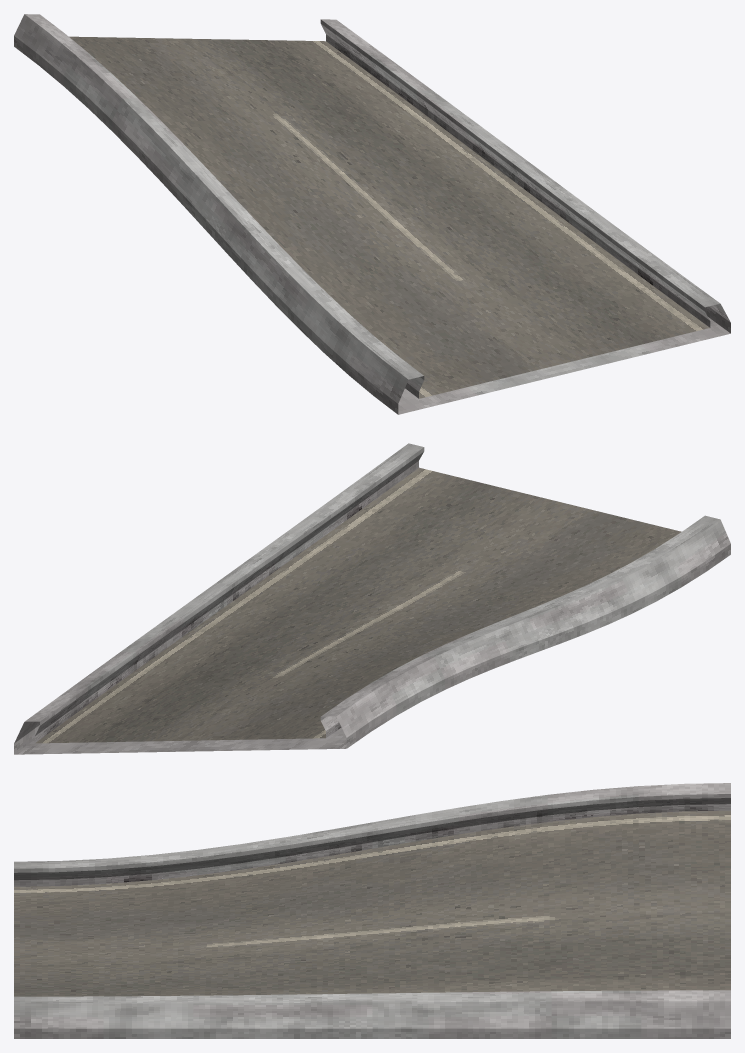
Rendered from straight2.glb.
3 renders of one model, top to bottom at view 1: azimuth 30°, elevation 25°; view 2: azimuth 150°, elevation 25°; view 3: azimuth 270°, elevation 25°, orthographic. The views are drawn at different scales.
Visible parts, largest first — view 1: road-Straight-Flat-HalfBankedRight-Even-Center-Size2; view 2: road-Straight-Flat-HalfBankedRight-Even-Center-Size2; view 3: road-Straight-Flat-HalfBankedRight-Even-Center-Size2.
Part boxes in pixels (box(x1,y1,x2,y2)): road-Straight-Flat-HalfBankedRight-Even-Center-Size2: box(14, 14, 730, 414); road-Straight-Flat-HalfBankedRight-Even-Center-Size2: box(14, 443, 730, 754); road-Straight-Flat-HalfBankedRight-Even-Center-Size2: box(14, 783, 730, 1038).
Size of the model in its own units: 1 by 0.3359 by 2.
Materials: 2 (2 with a texture image).
